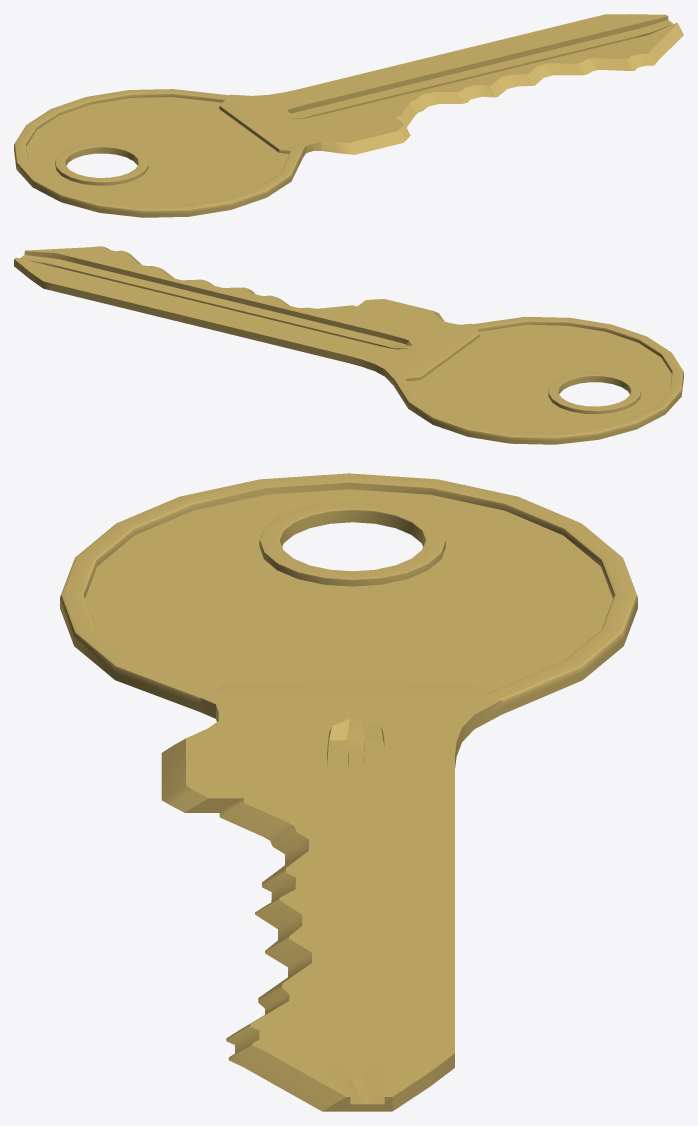
Rendered from Prop_02_Llave.fbx.
3 views of the same model, one above another, from view 1: azimuth 30°, elevation 25°; view 2: azimuth 150°, elevation 25°; view 3: azimuth 270°, elevation 25° (orthographic). The views are drawn at different scales.
Parts seen in each view (by area): view 1: pCylinder1; view 2: pCylinder1; view 3: pCylinder1.
Boxes of the visible parts, x1,y1,x2,y2 form: pCylinder1: [14, 14, 683, 217]; pCylinder1: [14, 246, 683, 444]; pCylinder1: [60, 473, 637, 1111].
Size of the model in its own units: 4.53 by 0.0492 by 1.77.
